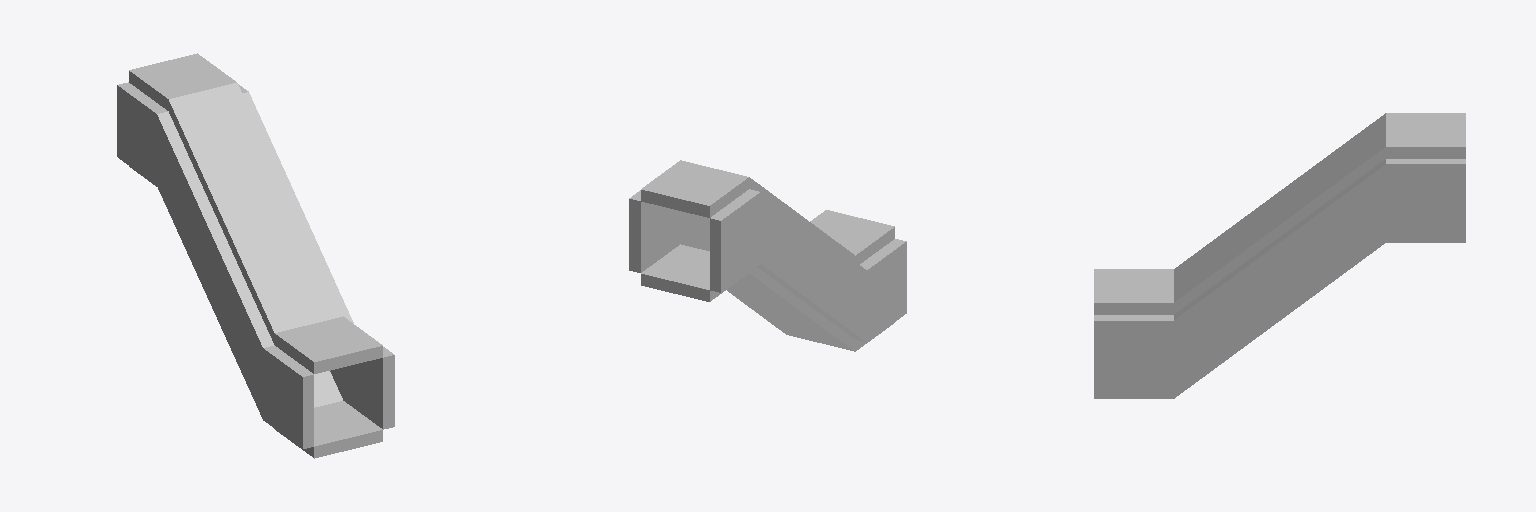
File: stairs.obj
3 renders of one model, left to right at view 1: azimuth 30°, elevation 25°; view 2: azimuth 150°, elevation 25°; view 3: azimuth 270°, elevation 25°, orthographic.
Visible parts, largest first — view 1: cuboid, plane; view 2: plane, cuboid; view 3: cuboid, plane.
Part boxes in pixels (x1,y1,x2,y2): cuboid: (157, 83, 353, 418); plane: (117, 53, 394, 458); plane: (629, 160, 906, 350); cuboid: (680, 177, 866, 351); cuboid: (1174, 113, 1385, 398); plane: (1094, 113, 1465, 398).
Bounding box in the file's own units: 0.5 × 1.31 × 1.75.